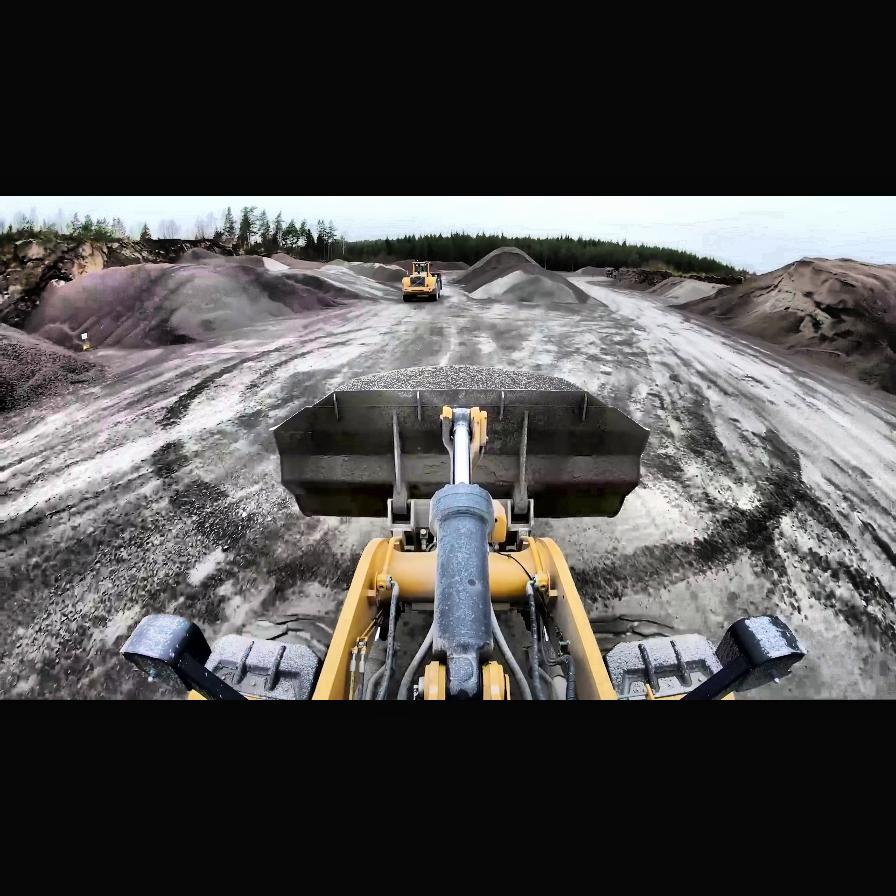anchor: (440, 404, 489, 481)
pile of gravel: (4, 248, 362, 354), (659, 252, 895, 402), (0, 327, 106, 413), (456, 248, 592, 304), (298, 260, 408, 302), (460, 246, 542, 274), (652, 278, 724, 304), (261, 256, 293, 272)
